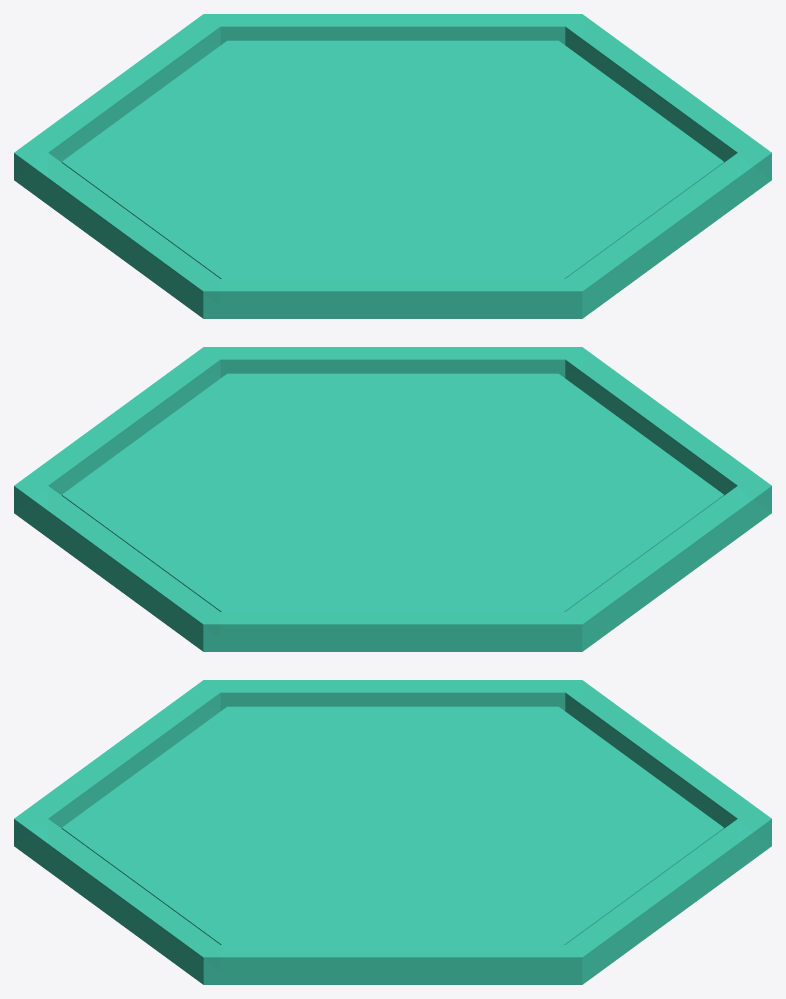
File: tile-hex.glb
3 views of the same model, one above another, from view 1: azimuth 30°, elevation 25°; view 2: azimuth 150°, elevation 25°; view 3: azimuth 270°, elevation 25° (orthographic).
Visible parts, largest first — view 1: tile; view 2: tile; view 3: tile.
Part boxes in pixels (bbox=[...]): tile: bbox=[14, 14, 771, 318]; tile: bbox=[14, 347, 771, 651]; tile: bbox=[14, 680, 771, 984].
Bounding box in the file's own units: 1.73 × 0.08 × 2.
